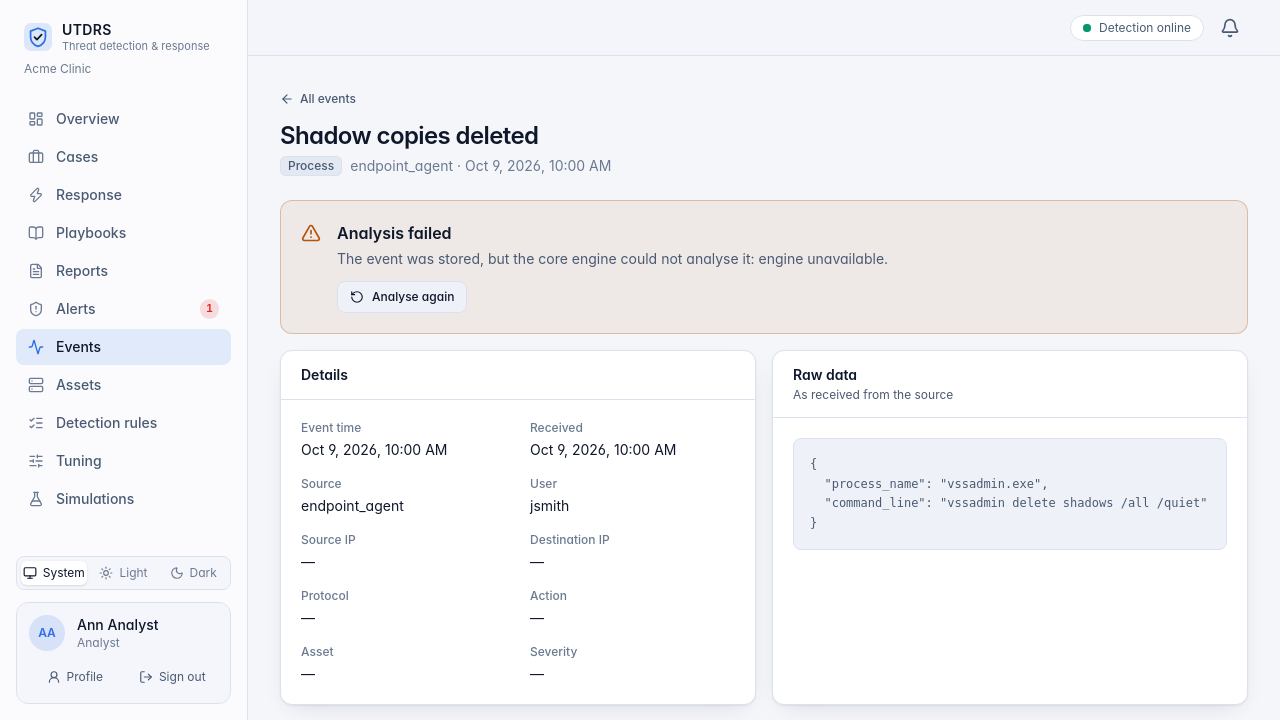
event verdicts › analyses a failed event again
The width and height of the screenshot is (1280, 720).
Click the button "Analyse again".
click(402, 297)  # box [337, 281, 467, 313]
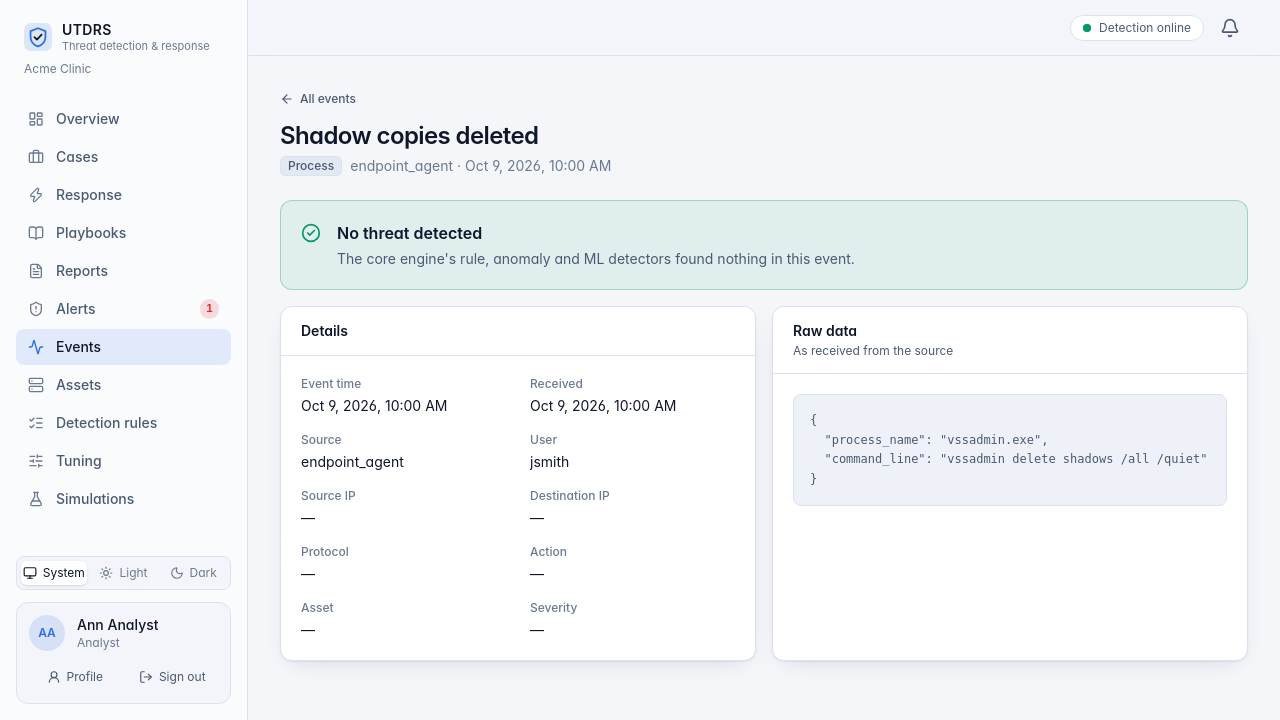
Now the heading "No threat detected" is shown, box [337, 223, 482, 243]
